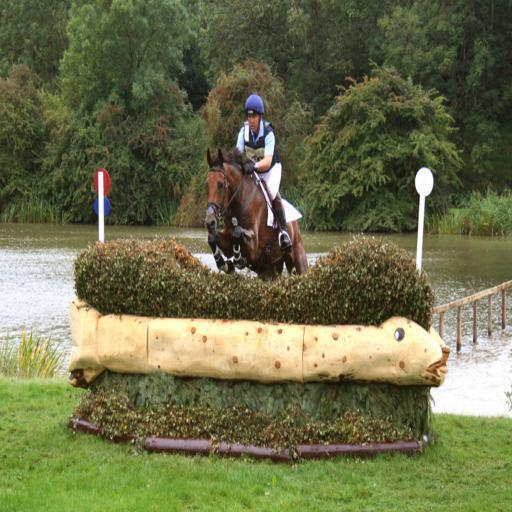horse: (201, 145, 308, 275)
